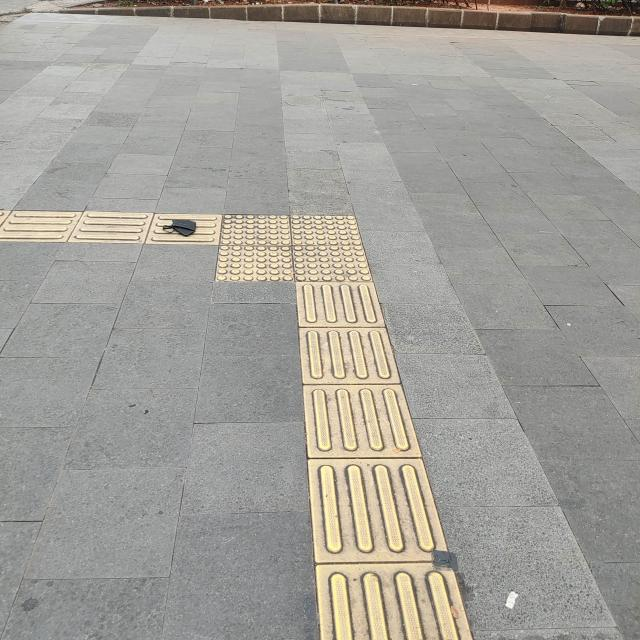kiri: (120, 168, 429, 338)
